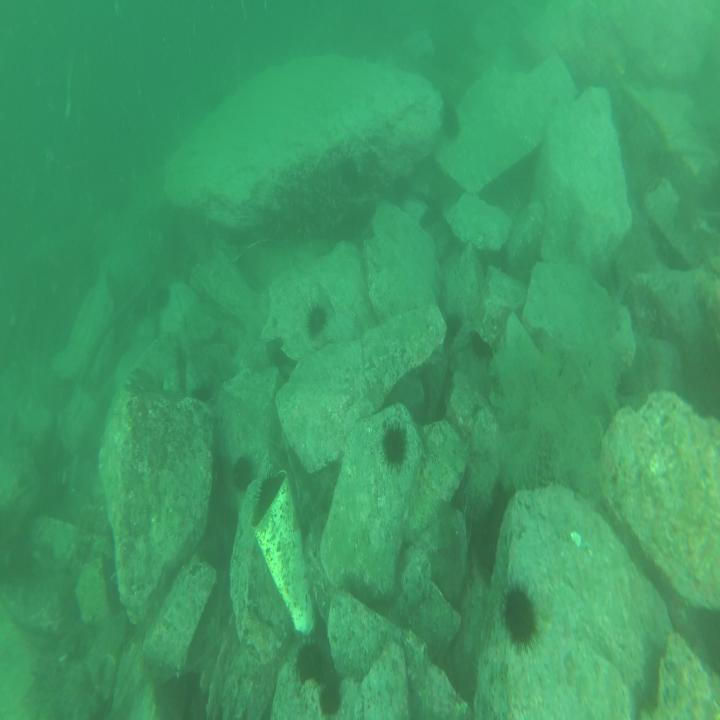echinus: (502, 580, 539, 651), (384, 422, 408, 468), (234, 454, 255, 492), (441, 103, 461, 142), (306, 306, 327, 340)
